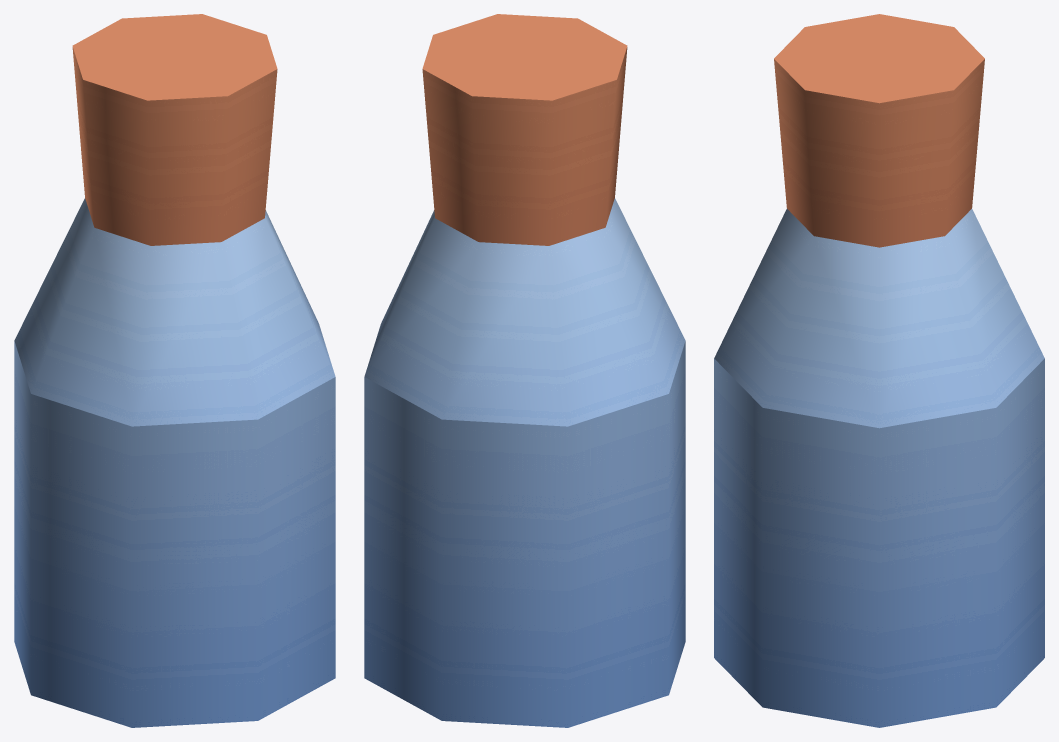
File: bottle.001_lev2.glb
3 views of the same model, side by side, from view 1: azimuth 30°, elevation 25°; view 2: azimuth 150°, elevation 25°; view 3: azimuth 270°, elevation 25° (orthographic).
Visible parts, largest first — view 1: bottle.001_lev2; view 2: bottle.001_lev2; view 3: bottle.001_lev2.
Boxes of the visible parts, <box> form: bottle.001_lev2: <box>14,14,335,727</box>; bottle.001_lev2: <box>364,14,685,727</box>; bottle.001_lev2: <box>714,14,1044,727</box>.
Size of the model in its own units: 0.136 by 0.272 by 0.136.
1 material, 1 textured.
